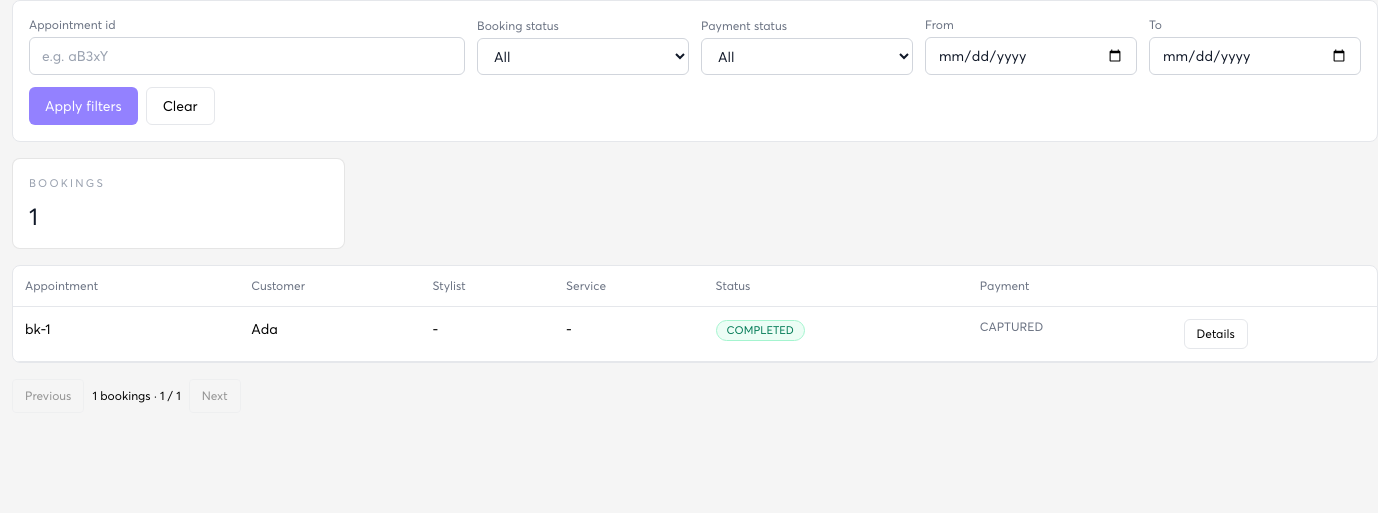
a manager's screens › bookings and their detail show no amounts to a manager
Expected: the text "Ada" is shown, [251, 320, 278, 336]
Click the button "Details" at (1216,334), box [1184, 318, 1248, 348]
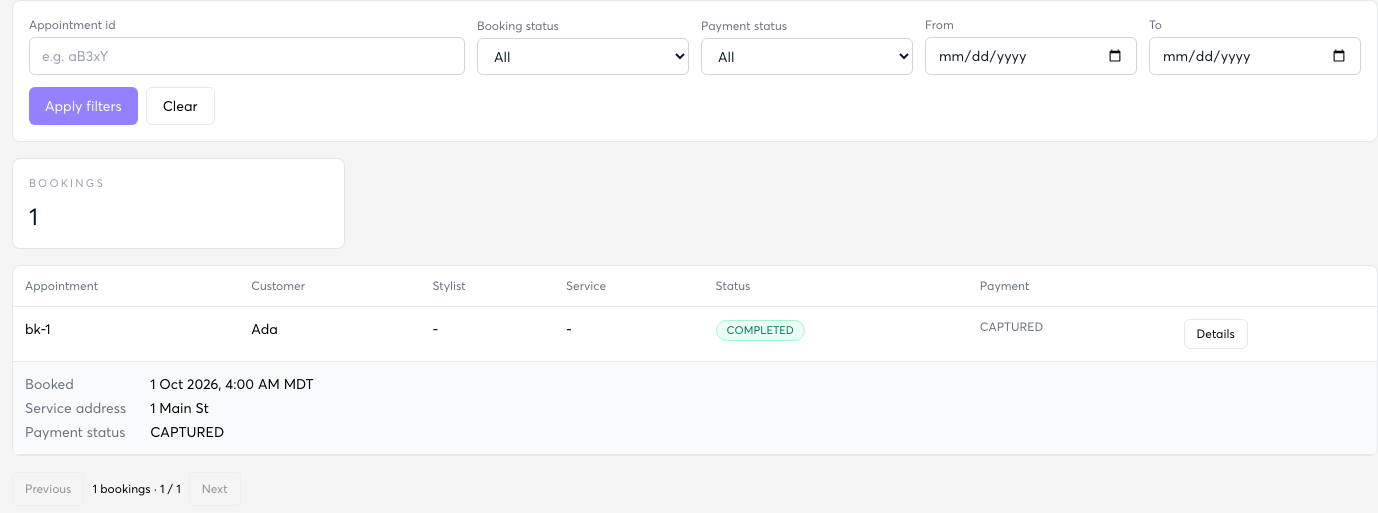
Now the text "1 Main St" is shown, box [150, 398, 209, 416]
Now the text "Payment status" is shown, box [25, 422, 126, 442]
